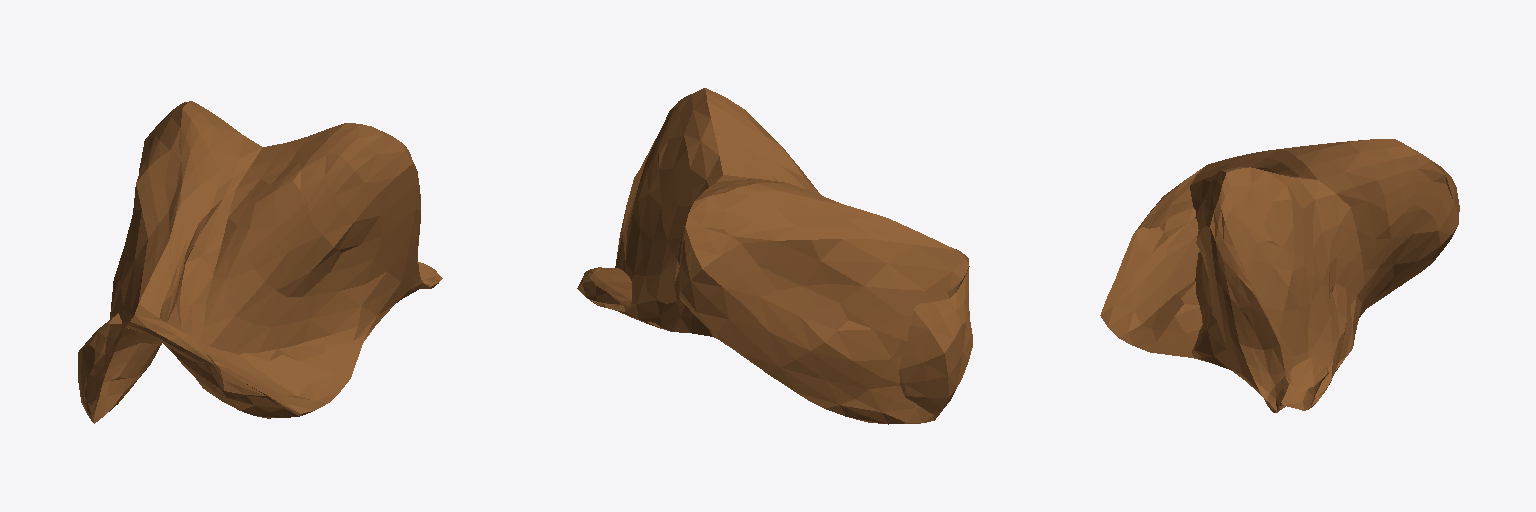
File: rock1.obj
3 views of the same model, side by side, from view 1: azimuth 30°, elevation 25°; view 2: azimuth 150°, elevation 25°; view 3: azimuth 270°, elevation 25° (orthographic).
Visible parts, largest first — view 1: rock6:bolder5 rock6:bolderGroup1 rock6:polySurface1 group6; view 2: rock6:bolder5 rock6:bolderGroup1 rock6:polySurface1 group6; view 3: rock6:bolder5 rock6:bolderGroup1 rock6:polySurface1 group6.
Part boxes in pixels (x1,y1,x2,y2): rock6:bolder5 rock6:bolderGroup1 rock6:polySurface1 group6: (78, 101, 442, 423); rock6:bolder5 rock6:bolderGroup1 rock6:polySurface1 group6: (577, 88, 972, 424); rock6:bolder5 rock6:bolderGroup1 rock6:polySurface1 group6: (1100, 139, 1459, 412).
Bounding box in the file's own units: 12.65 × 8.3 × 10.61.